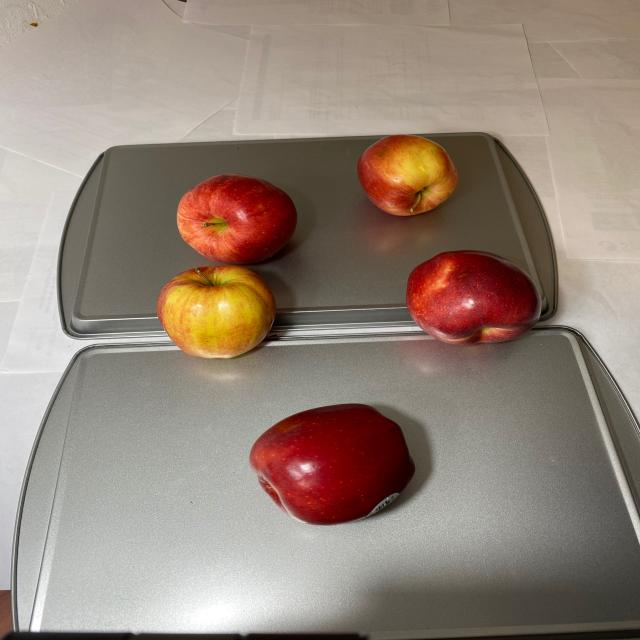Apple: (157, 134, 544, 531)
